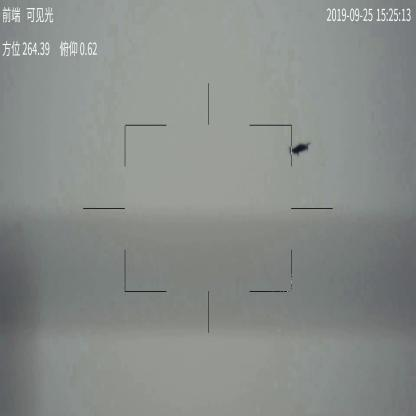uav: (289, 139, 310, 157)
